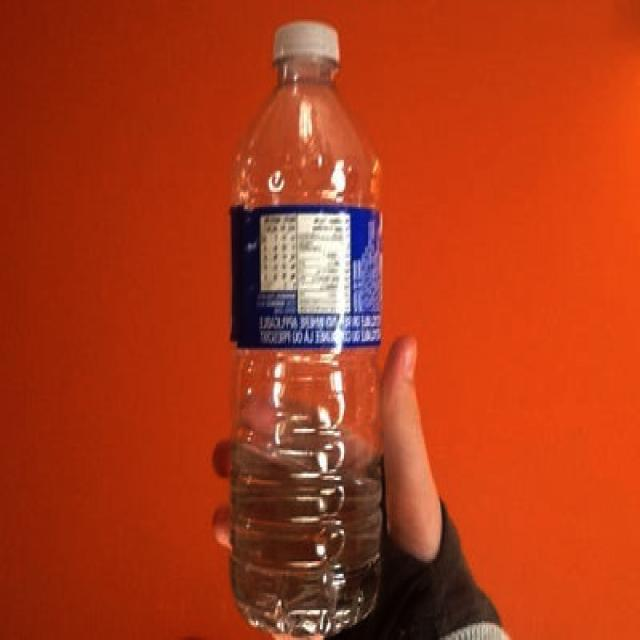cap: (266, 20, 344, 65)
label: (233, 206, 386, 346)
not-crumbled: (226, 16, 390, 640)
